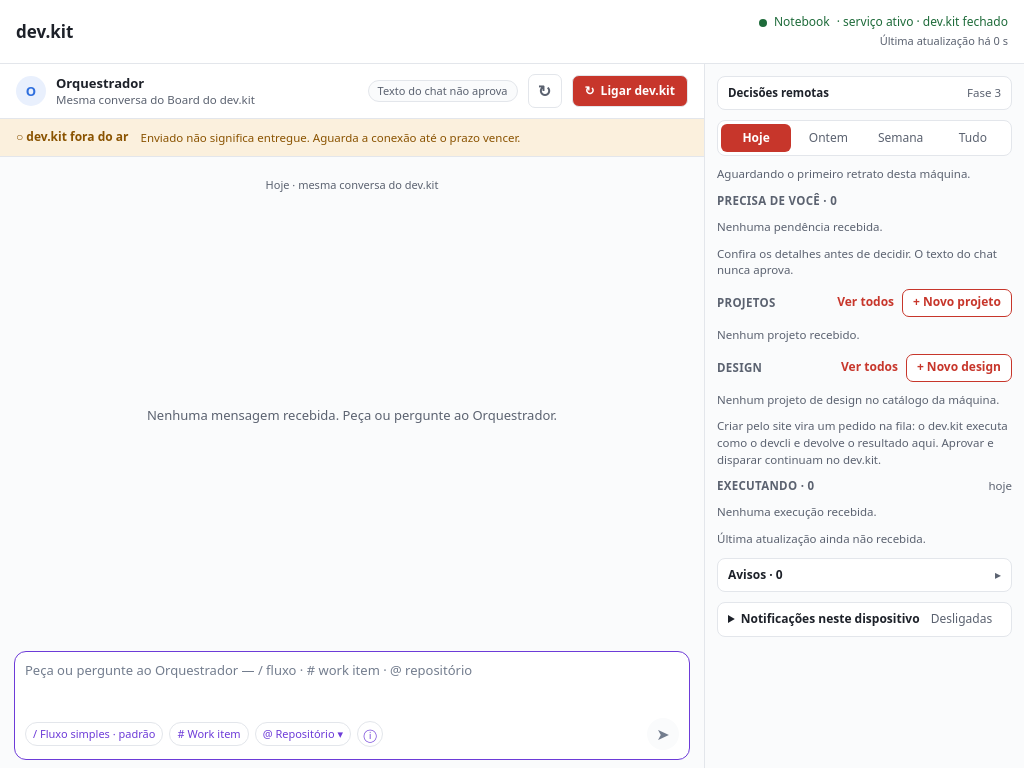
Scenario: Ligar e Reiniciar o dev.kit pelo site (item 8) › com o dev.kit fechado oferece Ligar e manda o comando ao serviço da máquina
Click the button "↻ Ligar dev.kit" at (630, 91), box [572,75,688,107]
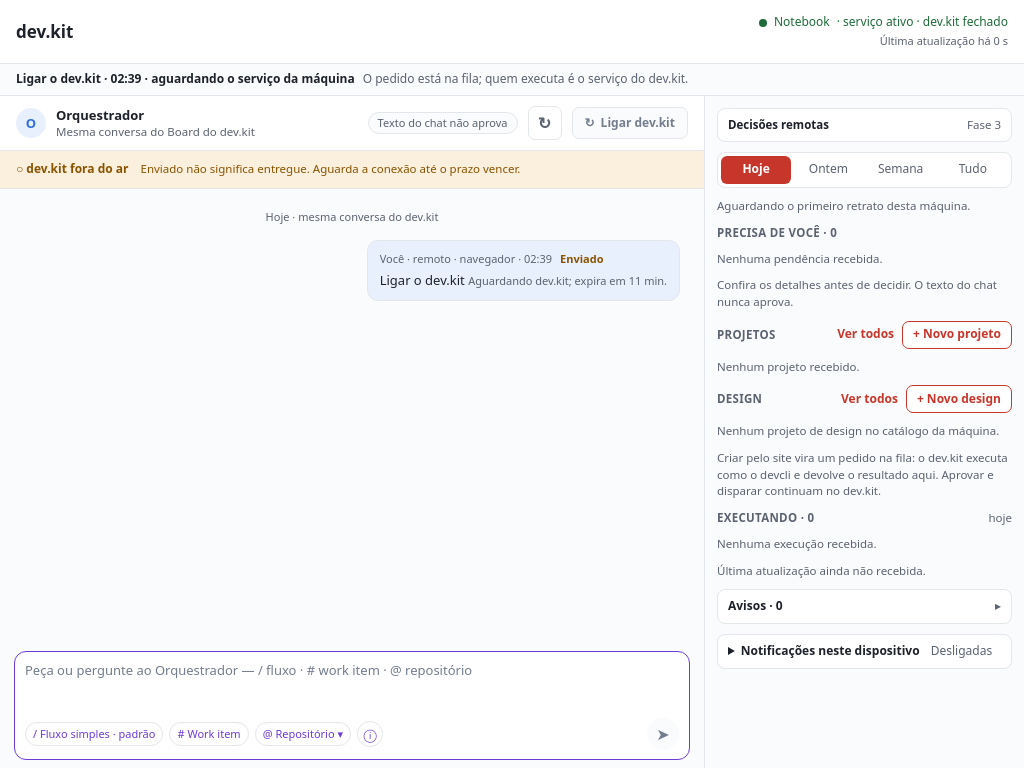
Result: the text "Ligar o dev.kit · 02:39 · aguardando o serviço da máquina" is shown at [16,71,355,88]
Result: the button "↻ Ligar dev.kit" is disabled at [572,107,688,139]
